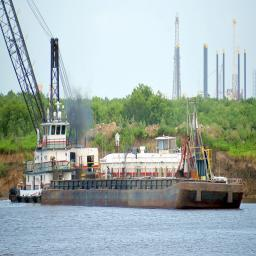tugboat: (9, 101, 100, 208)
